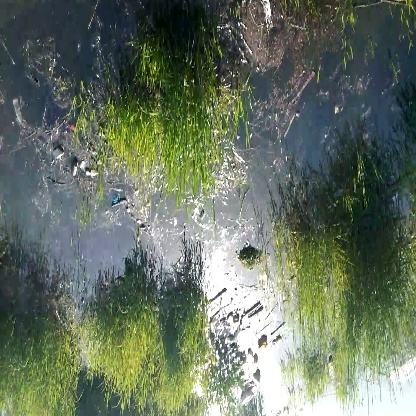grass: (112, 54, 223, 183)
